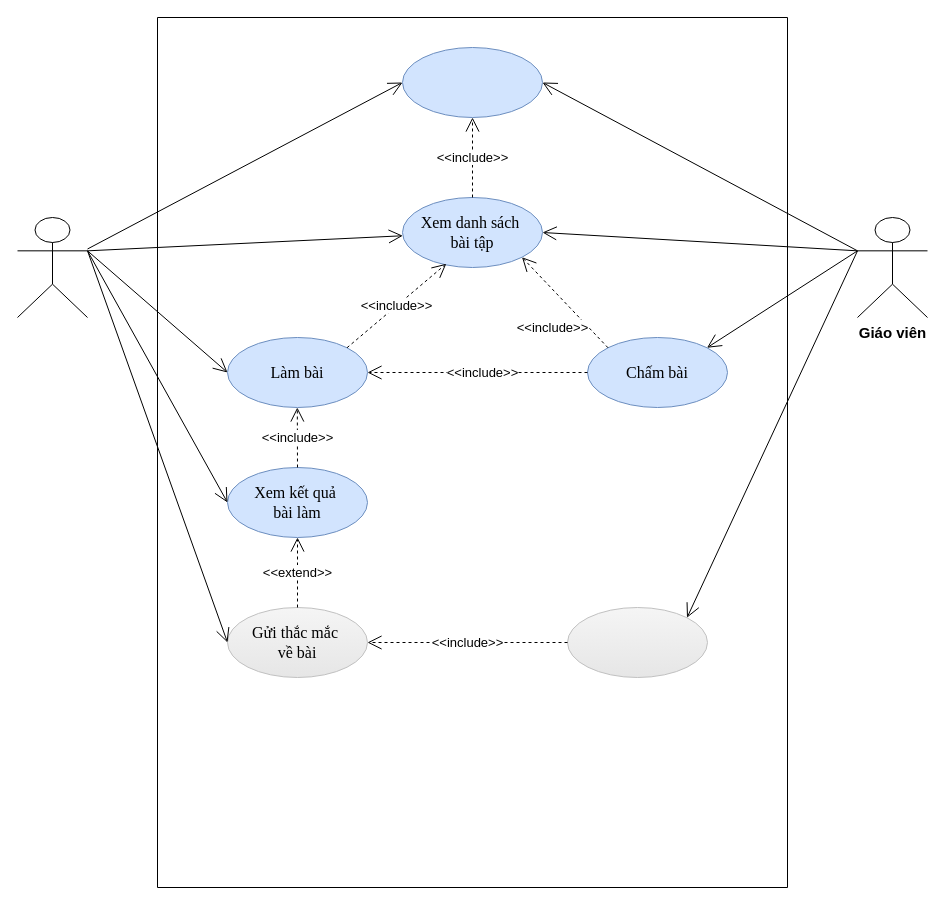
The diagram is 945 pixels wide and 905 high, and some of its shapes have lost their labels. The centre of each missing label's shape, as x and y in pixels:
Học viên: (52,267)
Phản hồi thắc mắc: (637,642)
Đăng nhập: (472,82)
